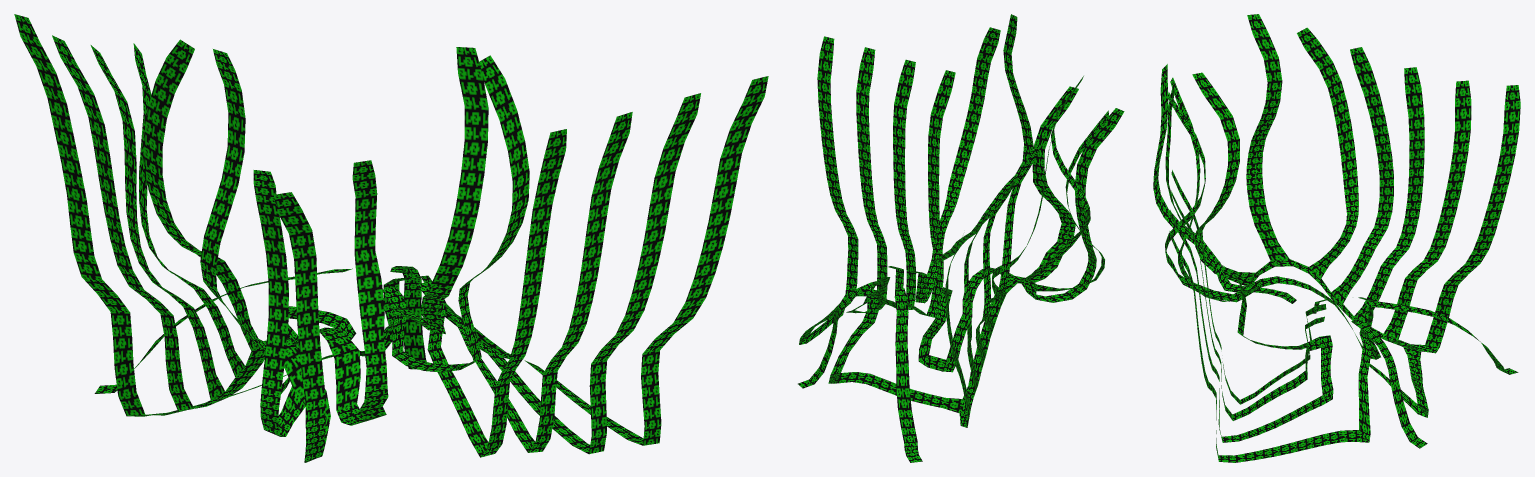
Rendered from trama.glb.
3 views of the same model, side by side, from view 1: azimuth 30°, elevation 25°; view 2: azimuth 150°, elevation 25°; view 3: azimuth 270°, elevation 25° (orthographic). The views are drawn at different scales.
Bounding box in the file's own units: 17.36 × 16.97 × 16.73.
Materials: 1 (1 with a texture image).
